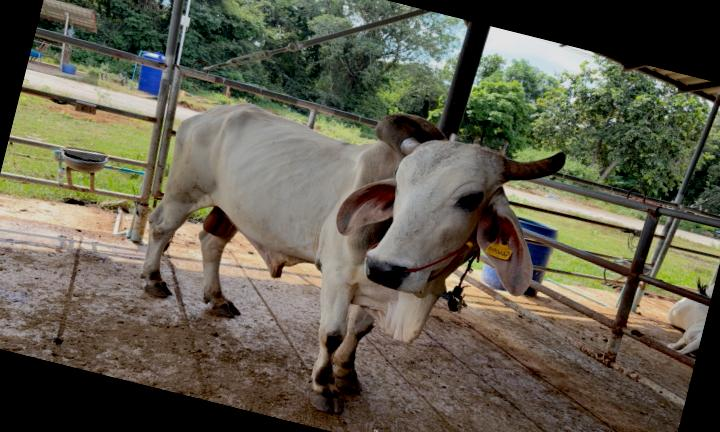Brahman: (140, 103, 564, 413)
